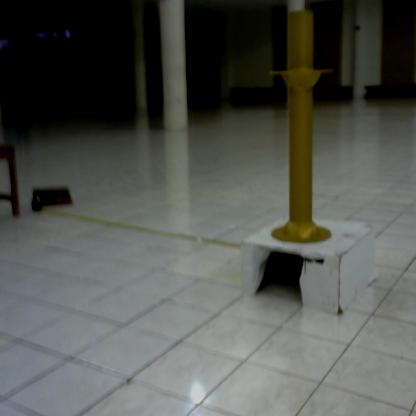pole: (270, 2, 341, 253)
